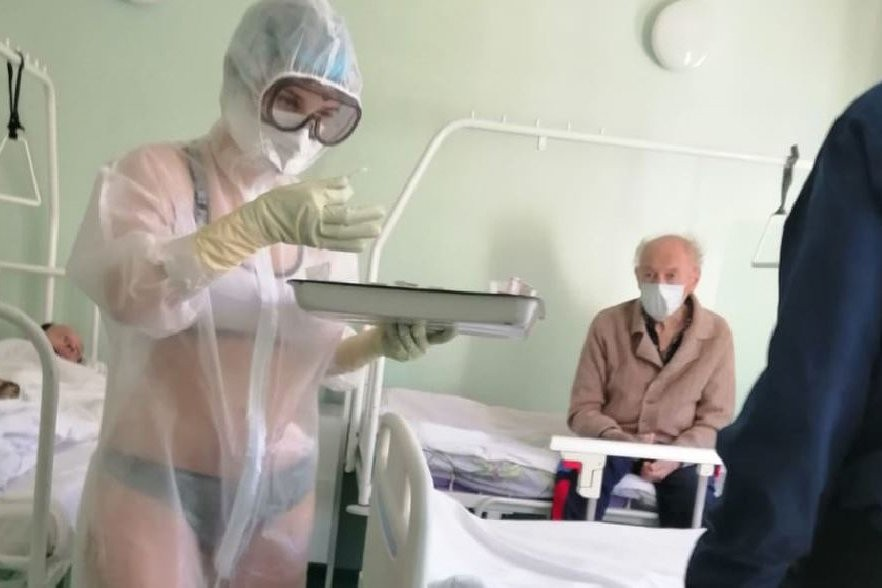Coverall: (86, 1, 371, 588)
Gloves: (192, 180, 387, 265), (342, 321, 456, 374)
Goggles: (259, 77, 362, 148)
with_mask: (256, 79, 342, 181), (637, 264, 689, 323)
